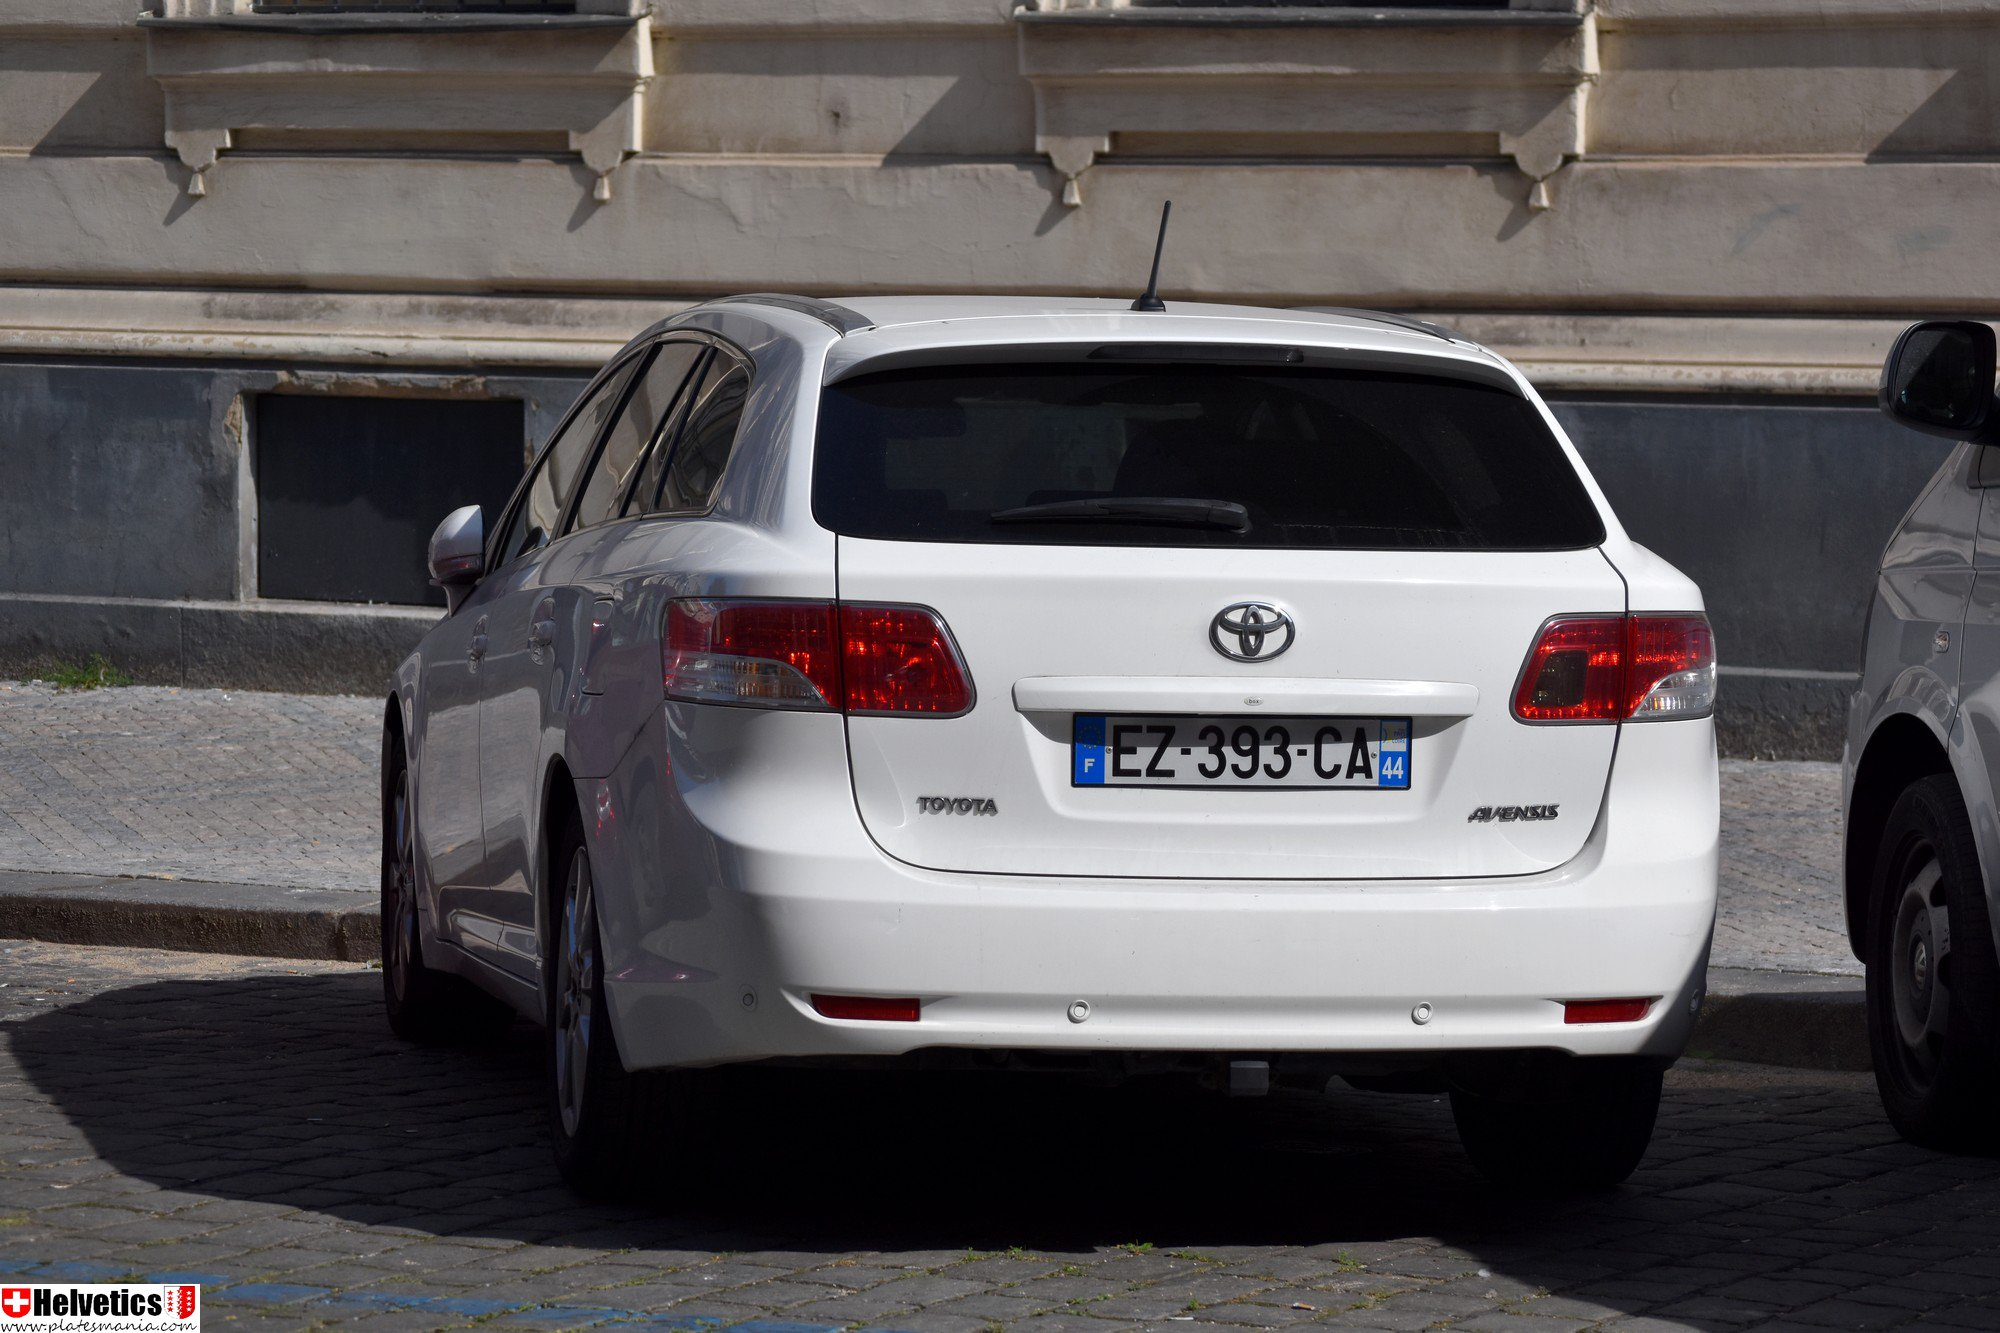licence plate: (1068, 701, 1418, 796)
